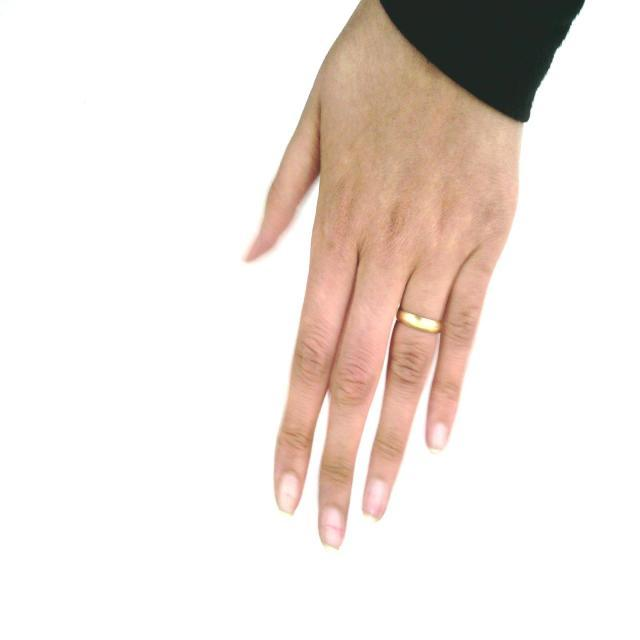Fingernail: (322, 507, 343, 548), (365, 479, 386, 519), (279, 474, 299, 515), (430, 423, 447, 450), (246, 238, 261, 258)
